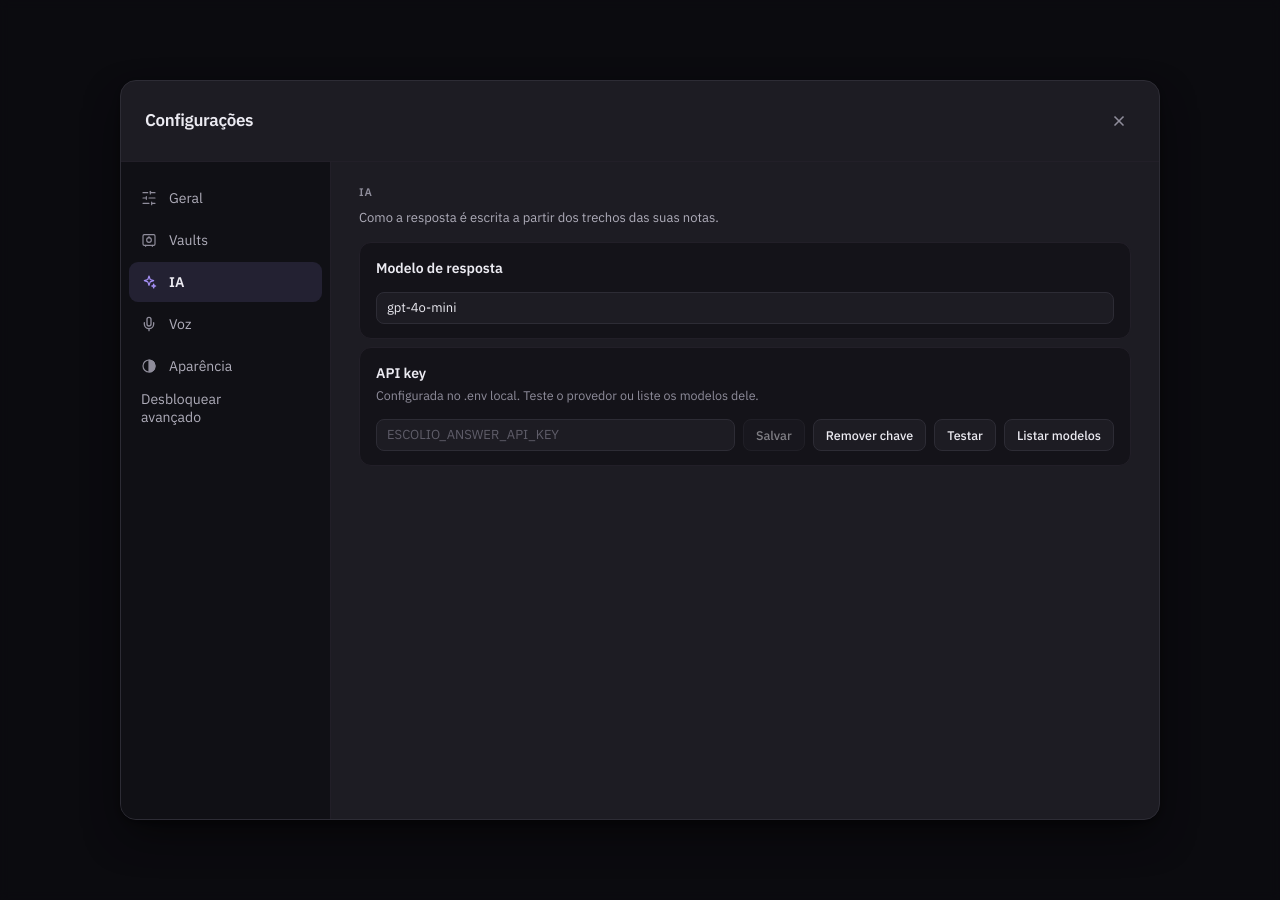
Test: SettingsModal: chave de API, remoção e rótulos do catálogo › Remover chave: o primeiro clique pede confirmação e só o segundo apaga a chave
This screenshot has width=1280, height=900.
Click the button "Remover chave". click: (870, 435)
box: [813,419,926,451]
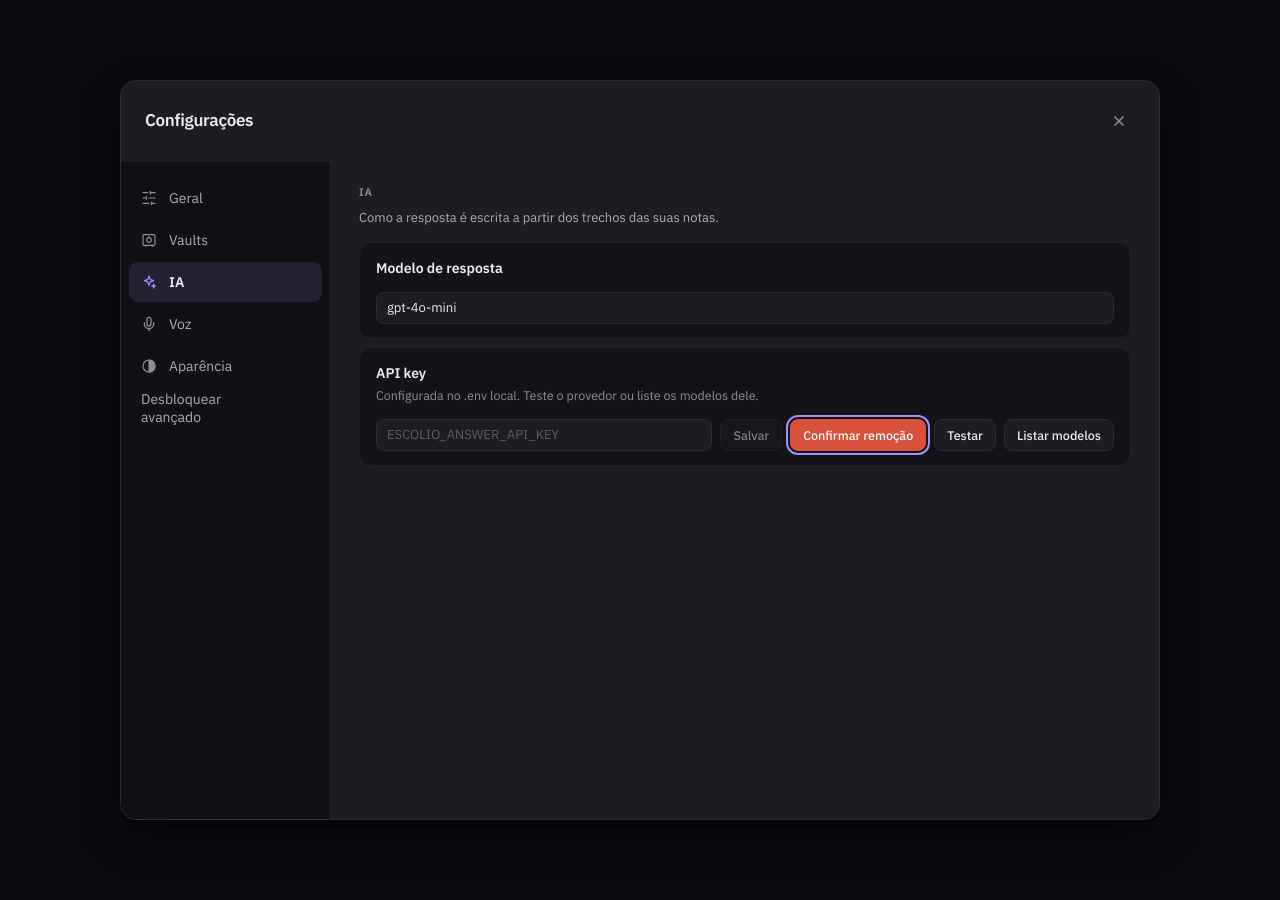
Expected: the button "Confirmar remoção" has class "btn--danger"
Click the button "Confirmar remoção". click: (858, 435)
box: [790,419,926,451]
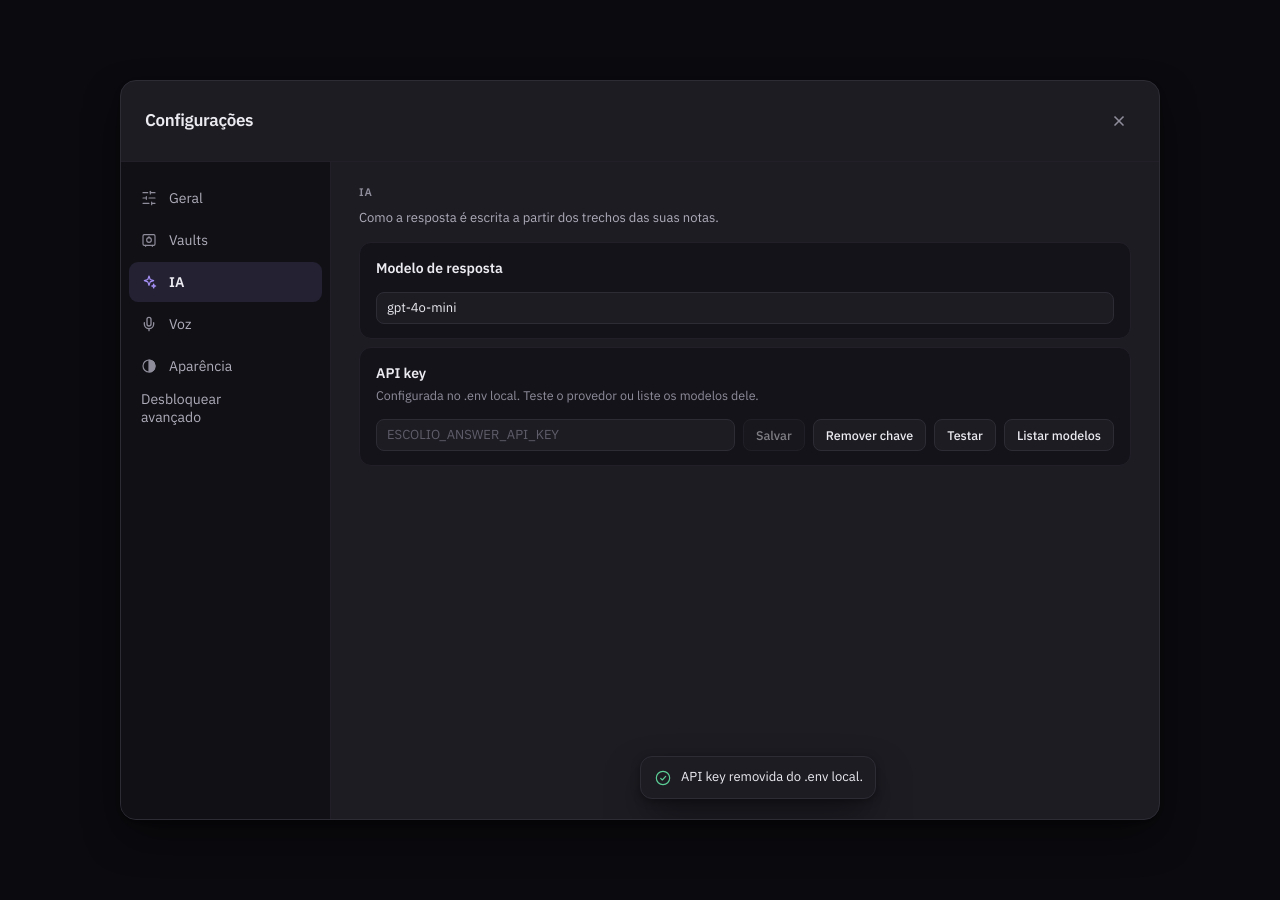
Expected: the text "API key removida do .env local." is shown, [681,767,863,788]
Expected: the button "Remover chave" is shown, [813,419,926,451]
